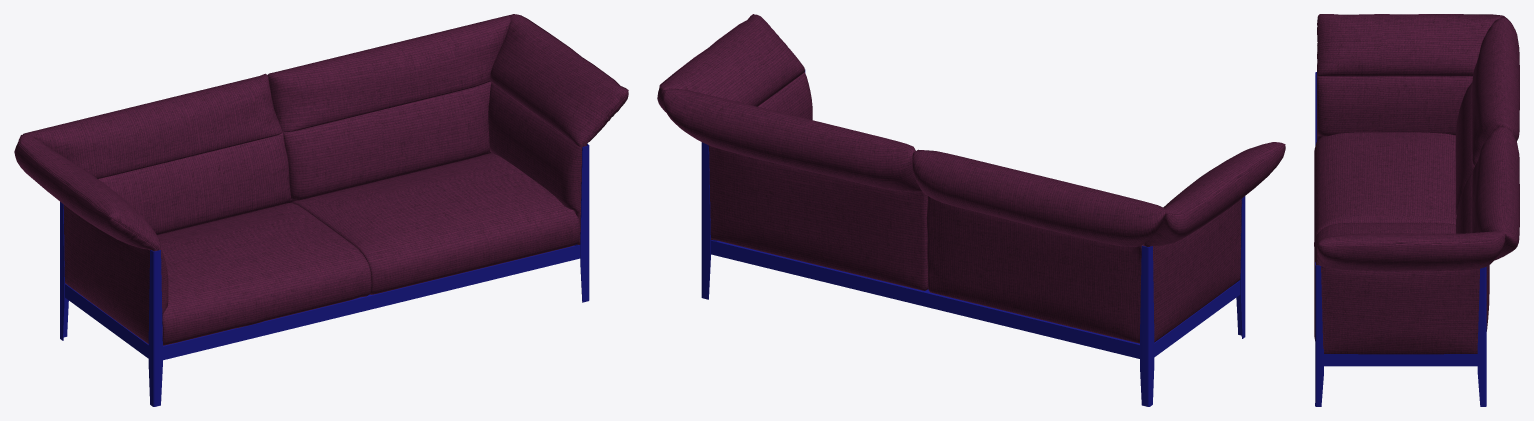
File: sofa.glb
3 views of the same model, side by side, from view 1: azimuth 30°, elevation 25°; view 2: azimuth 150°, elevation 25°; view 3: azimuth 270°, elevation 25° (orthographic). The views are drawn at different scales.
Visible parts, largest first — view 1: Cottone, frame; view 2: Cottone, frame; view 3: Cottone, frame.
Part boxes in pixels (box(x1,y1,x2,y2)): Cottone: box(14, 14, 628, 345); frame: box(60, 144, 589, 406); Cottone: box(657, 14, 1285, 343); frame: box(701, 69, 1245, 406); Cottone: box(1314, 14, 1519, 354); frame: box(1315, 72, 1486, 406).
Size of the model in its own units: 2.01 by 0.7547 by 0.7564.
Materials: 2 (1 with a texture image).
